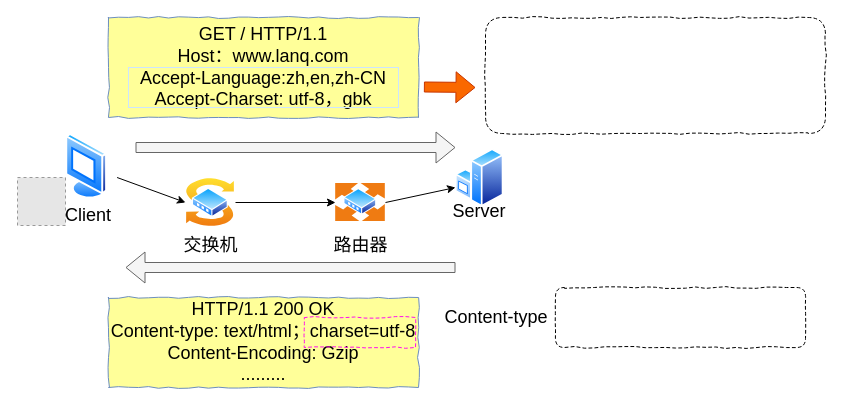
Some shapes in this 843 by 405 pixel diagram are drawn without their labels. Grey dashed boxes stand in for pictures. Each missing label, with the centre of its shape:
Accept-Language:告诉服务器，最好给我zh,en文字，是在不行就zh-CN Accept-charset:表示浏览器请求为utf-8和gbk: (655,75)
Content-type: charset=utf-8: (680,317)
